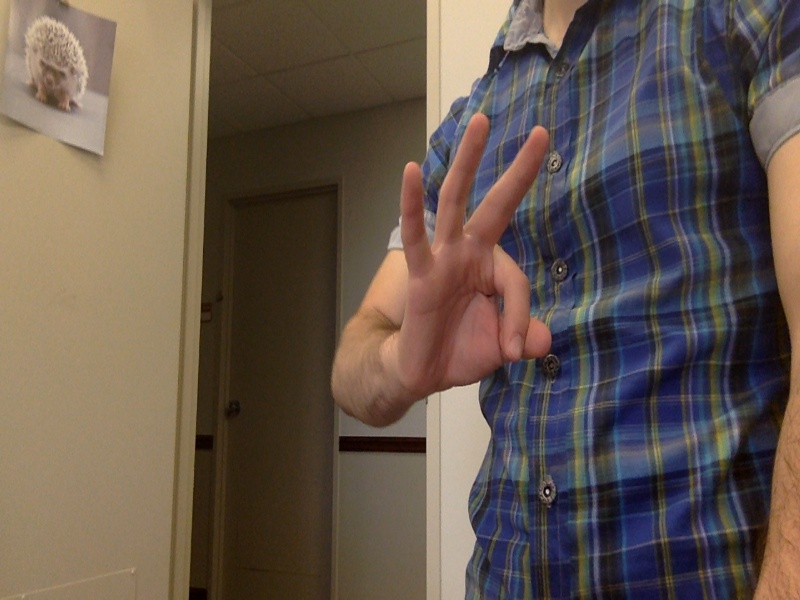3-hand: (396, 115, 553, 398)
